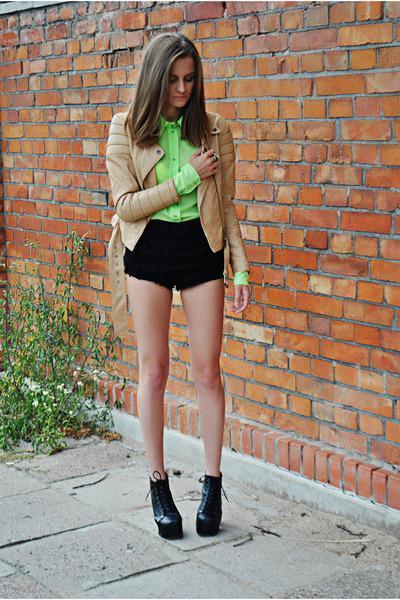shirt: (106, 85, 257, 275)
shoe: (150, 468, 223, 539)
shorts: (123, 209, 227, 299)
